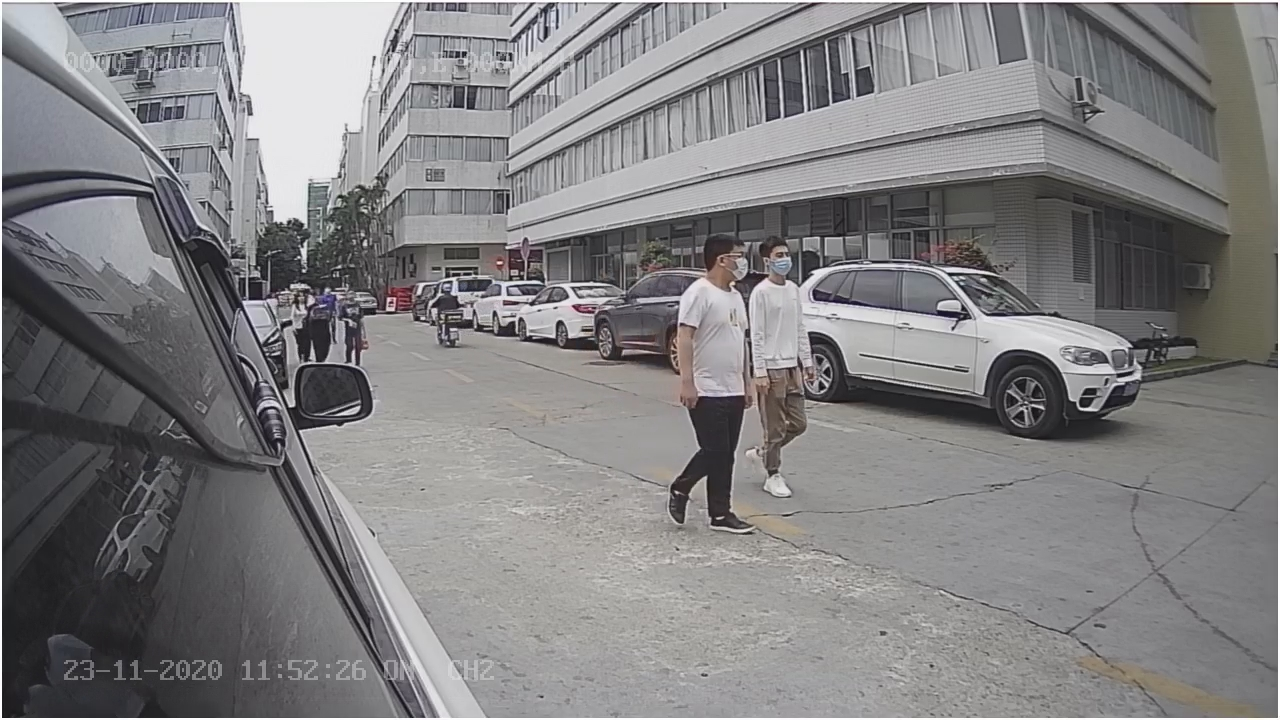person: (671, 230, 752, 538), (748, 236, 810, 505)
